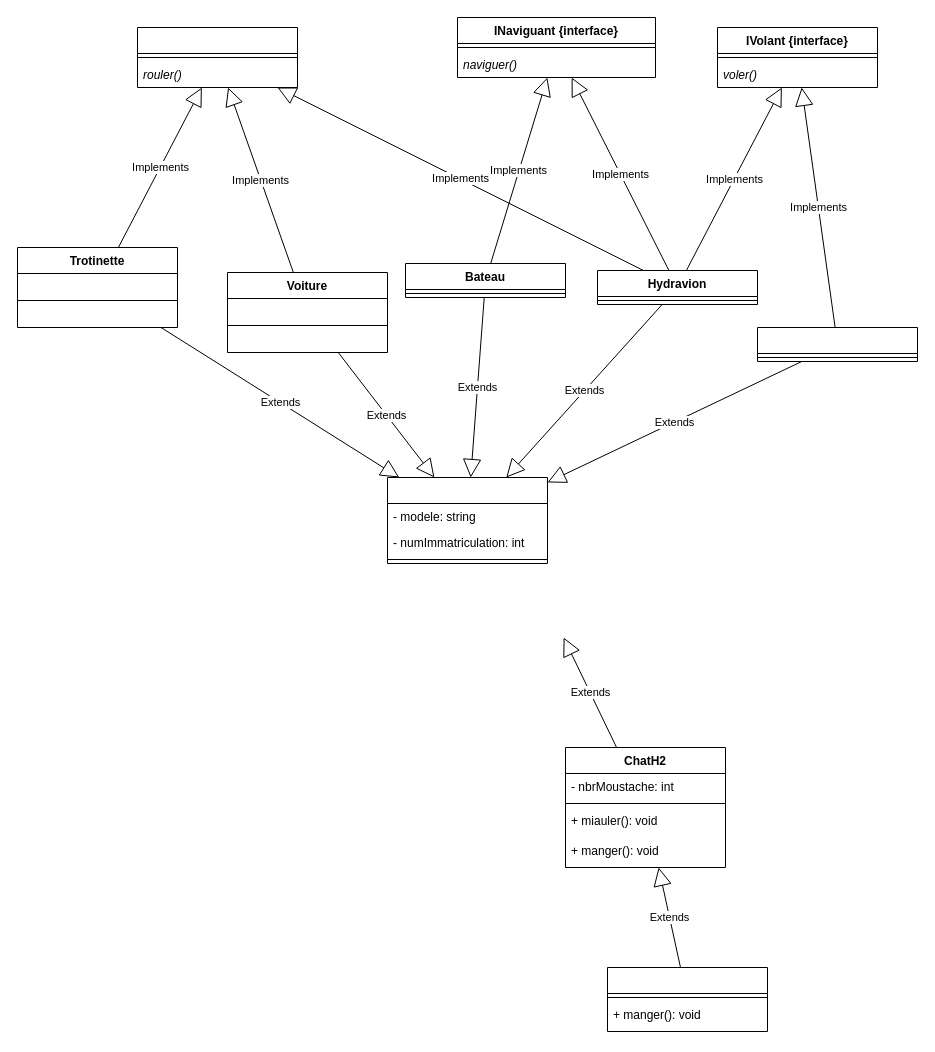
Image size: 935x1052. Some labels were removed from this diagram. The box of each missing label's shape, as (x1, y1, x2, y2) in pixels:
AngoraChatH2: (606, 966, 768, 1032)
Avion: (756, 326, 918, 362)
IRoulant {interface}: (136, 26, 298, 88)
Vehicule: (386, 476, 548, 564)
